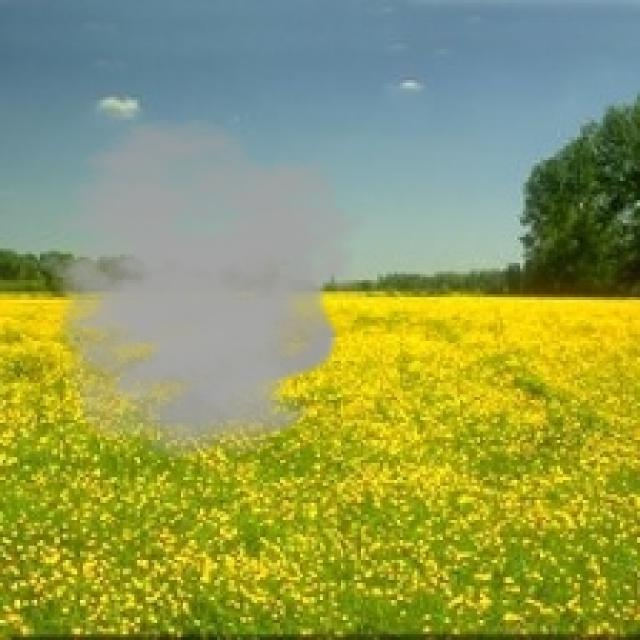Smoke: (14, 117, 369, 460)
